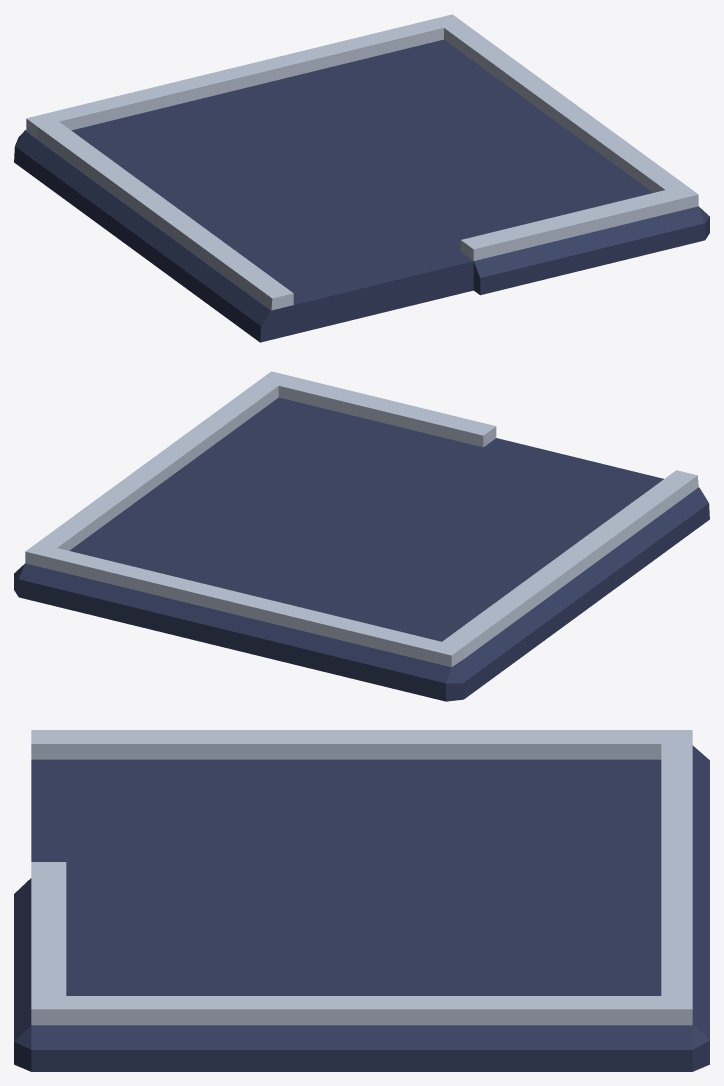
File: base_start_alt_2x2.fbx
The picture shows the model from 3 angles, top to bottom: view 1: azimuth 30°, elevation 25°; view 2: azimuth 150°, elevation 25°; view 3: azimuth 270°, elevation 25°; orthographic projection. The views are drawn at different scales.
Visible parts, largest first — view 1: base_start_alt_2x2; view 2: base_start_alt_2x2; view 3: base_start_alt_2x2.
Part boxes in pixels (bbox=[...]): base_start_alt_2x2: bbox=[14, 14, 709, 342]; base_start_alt_2x2: bbox=[14, 371, 709, 701]; base_start_alt_2x2: bbox=[14, 730, 709, 1071].
Bounding box in the file's own units: 401 × 35 × 400.
